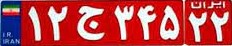character: (72, 3, 110, 42), (110, 3, 136, 42), (46, 3, 71, 43), (136, 3, 158, 44), (159, 4, 181, 42), (26, 4, 46, 44), (187, 9, 208, 43), (209, 9, 230, 43)
